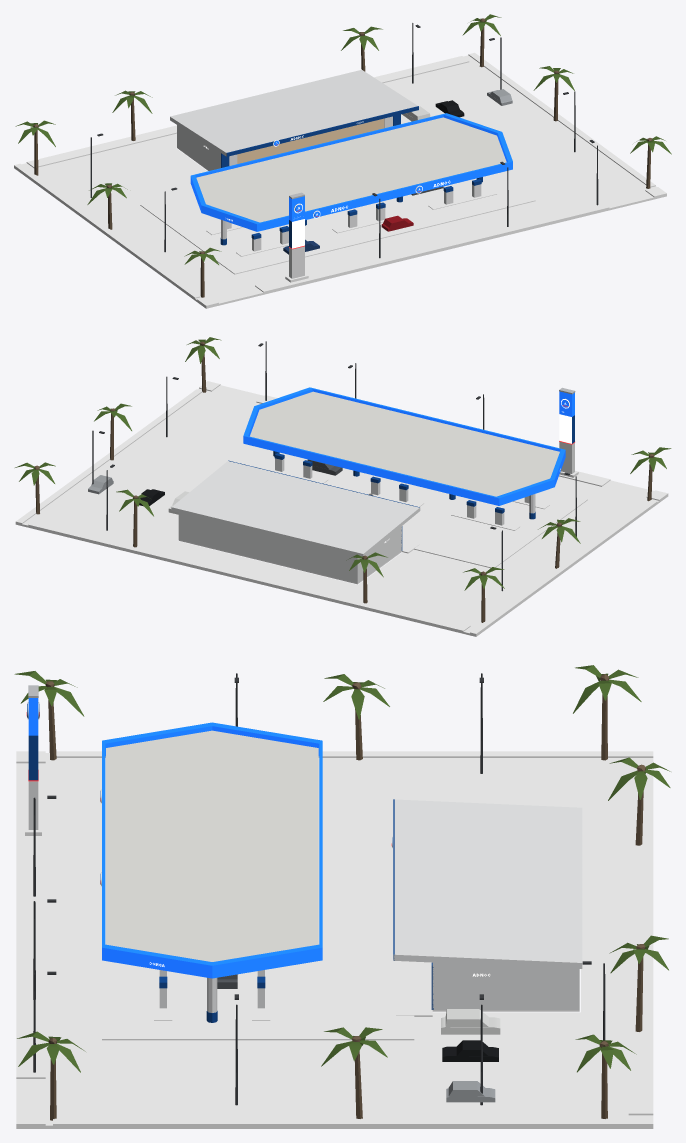
The model's file is adnoc_lod2.glb.
The picture shows the model from 3 angles, top to bottom: view 1: azimuth 30°, elevation 25°; view 2: azimuth 150°, elevation 25°; view 3: azimuth 270°, elevation 25°; orthographic projection. The views are drawn at different scales.
Visible parts, largest first — view 1: ADNOC_LOD2_Ground, ADNOC_LOD2_Canopy, ADNOC_LOD2_Store, ADNOC_LOD2_Landscape, ADNOC_LOD2_PumpIslands, ADNOC_LOD2_Glass, ADNOC_LOD2_Vehicles, ADNOC_LOD2_Pylon, ADNOC_LOD2_LampPosts; view 2: ADNOC_LOD2_Ground, ADNOC_LOD2_Canopy, ADNOC_LOD2_Store, ADNOC_LOD2_Landscape, ADNOC_LOD2_PumpIslands, ADNOC_LOD2_Pylon, ADNOC_LOD2_Vehicles, ADNOC_LOD2_LampPosts; view 3: ADNOC_LOD2_Ground, ADNOC_LOD2_Canopy, ADNOC_LOD2_Store, ADNOC_LOD2_Landscape, ADNOC_LOD2_Vehicles, ADNOC_LOD2_LampPosts, ADNOC_LOD2_PumpIslands, ADNOC_LOD2_Pylon.
Part boxes in pixels (bbox=[...]): ADNOC_LOD2_Ground: bbox=[14, 52, 666, 308]; ADNOC_LOD2_Canopy: bbox=[190, 113, 512, 245]; ADNOC_LOD2_Store: bbox=[170, 69, 418, 170]; ADNOC_LOD2_Landscape: bbox=[15, 14, 671, 297]; ADNOC_LOD2_PumpIslands: bbox=[206, 179, 496, 256]; ADNOC_LOD2_Glass: bbox=[237, 118, 384, 163]; ADNOC_LOD2_Vehicles: bbox=[283, 89, 512, 254]; ADNOC_LOD2_Pylon: bbox=[285, 192, 308, 282]; ADNOC_LOD2_LampPosts: bbox=[90, 23, 598, 258]; ADNOC_LOD2_Ground: bbox=[15, 381, 668, 636]; ADNOC_LOD2_Canopy: bbox=[243, 387, 565, 519]; ADNOC_LOD2_Store: bbox=[171, 460, 420, 584]; ADNOC_LOD2_Landscape: bbox=[15, 337, 671, 622]; ADNOC_LOD2_PumpIslands: bbox=[259, 453, 549, 530]; ADNOC_LOD2_Pylon: bbox=[559, 387, 578, 477]; ADNOC_LOD2_Vehicles: bbox=[88, 459, 342, 514]; ADNOC_LOD2_LampPosts: bbox=[92, 341, 576, 591]; ADNOC_LOD2_Ground: bbox=[16, 751, 653, 1128]; ADNOC_LOD2_Canopy: bbox=[102, 722, 322, 1022]; ADNOC_LOD2_Store: bbox=[393, 799, 582, 1011]; ADNOC_LOD2_Landscape: bbox=[14, 665, 670, 1120]; ADNOC_LOD2_Vehicles: bbox=[217, 974, 500, 1102]; ADNOC_LOD2_LampPosts: bbox=[33, 673, 605, 1105]; ADNOC_LOD2_PumpIslands: bbox=[154, 969, 270, 1020]; ADNOC_LOD2_Pylon: bbox=[25, 685, 41, 835].
Size of what is drawn, in the model's own units: 76.69 by 12.9 by 53.71.
